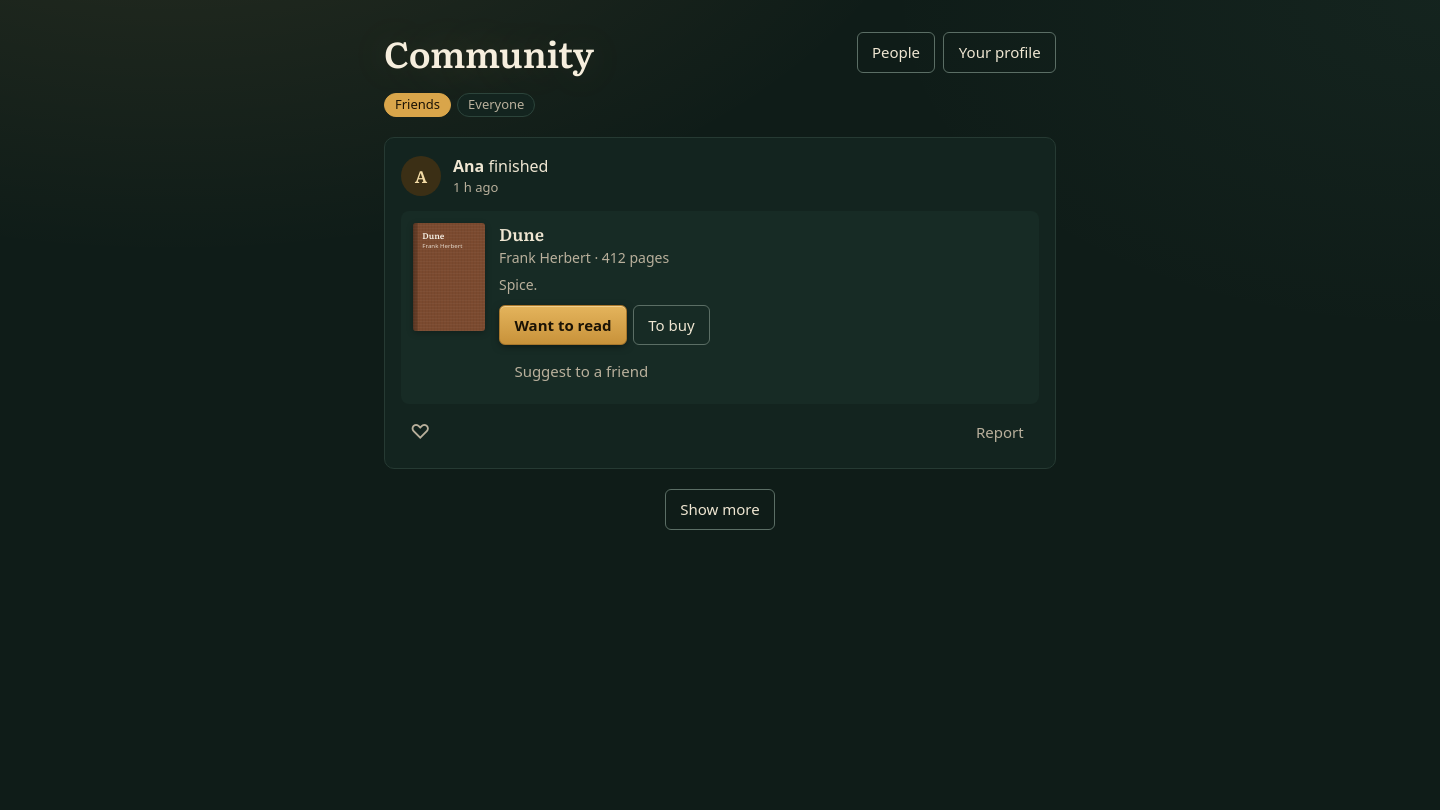
the feed › showMoreContinuesFromTheLastEntryAndSkipsRepeats
Click the button "Show more" at (720, 509), box [665,489,775,530]
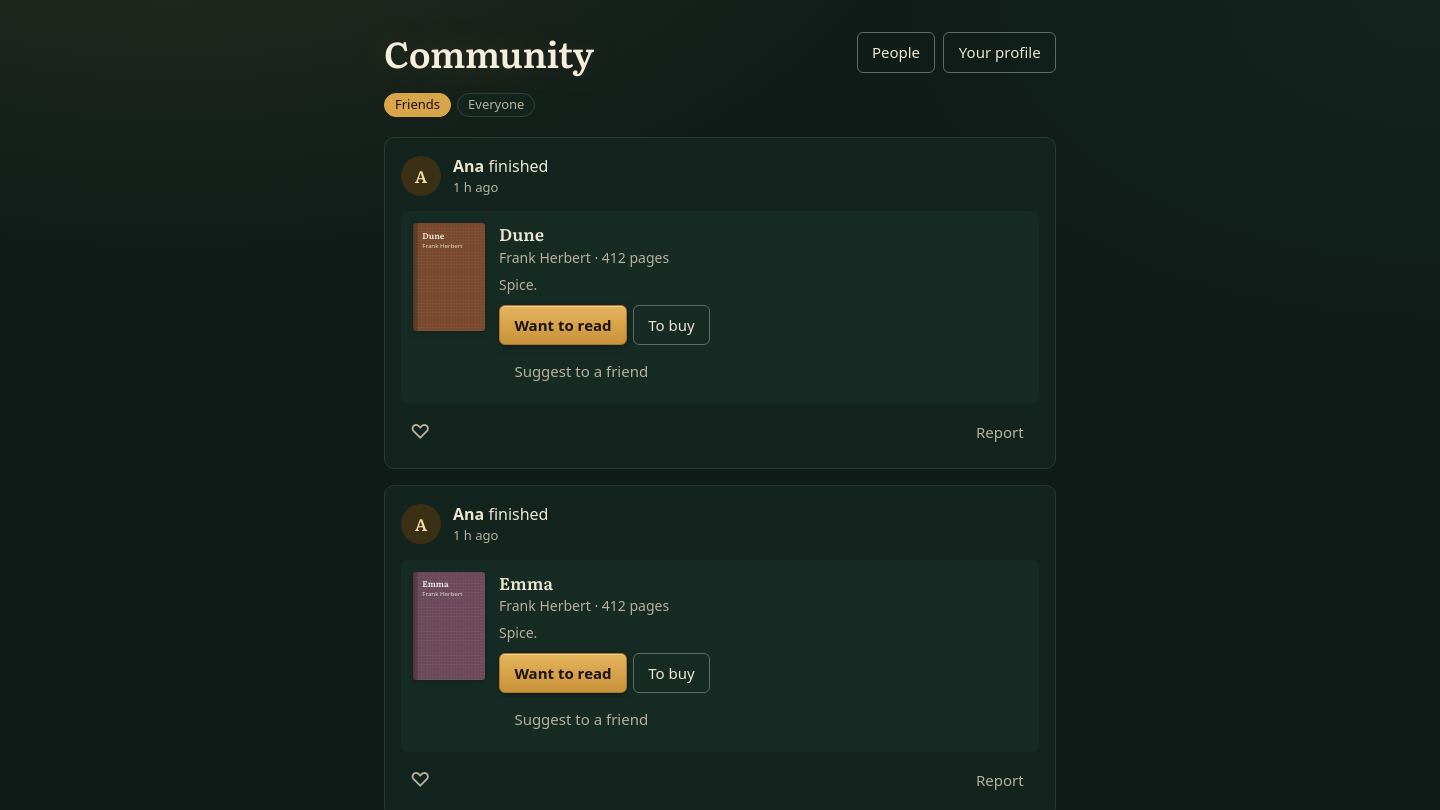
Expected: the text "Dune" is shown once, [499,221,544,246]
Expected: the 2nd text "Emma" is shown, [499,570,553,595]
Expected: the button "Show more" is gone
